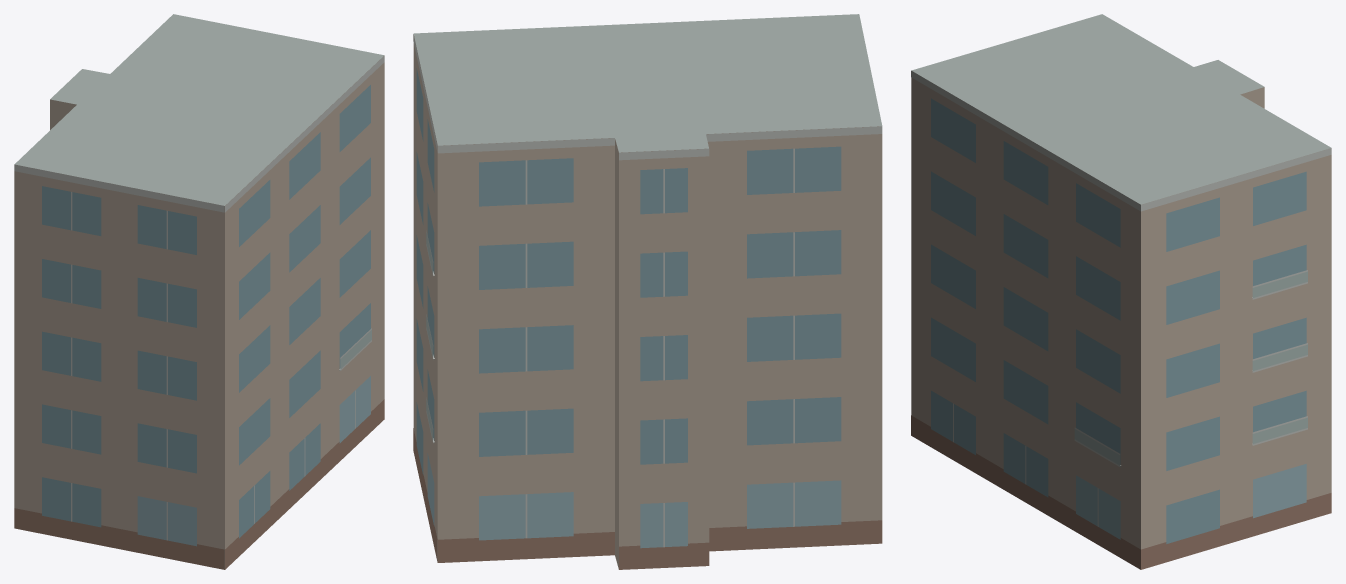
The model's file is survey-upis-32528577.glb.
The picture shows the model from 3 angles, left to right: view 1: azimuth 30°, elevation 25°; view 2: azimuth 150°, elevation 25°; view 3: azimuth 270°, elevation 25°; orthographic projection. The views are drawn at different scales.
Visible parts, largest first — view 1: survey-upis-32528577.tmp; view 2: survey-upis-32528577.tmp; view 3: survey-upis-32528577.tmp.
Boxes of the visible parts, box(x1,y1,x2,y2) form: survey-upis-32528577.tmp: box(14, 14, 384, 569); survey-upis-32528577.tmp: box(413, 14, 882, 569); survey-upis-32528577.tmp: box(911, 14, 1331, 569).
Bounding box in the file's own units: 14.68 × 13.1 × 13.68.
